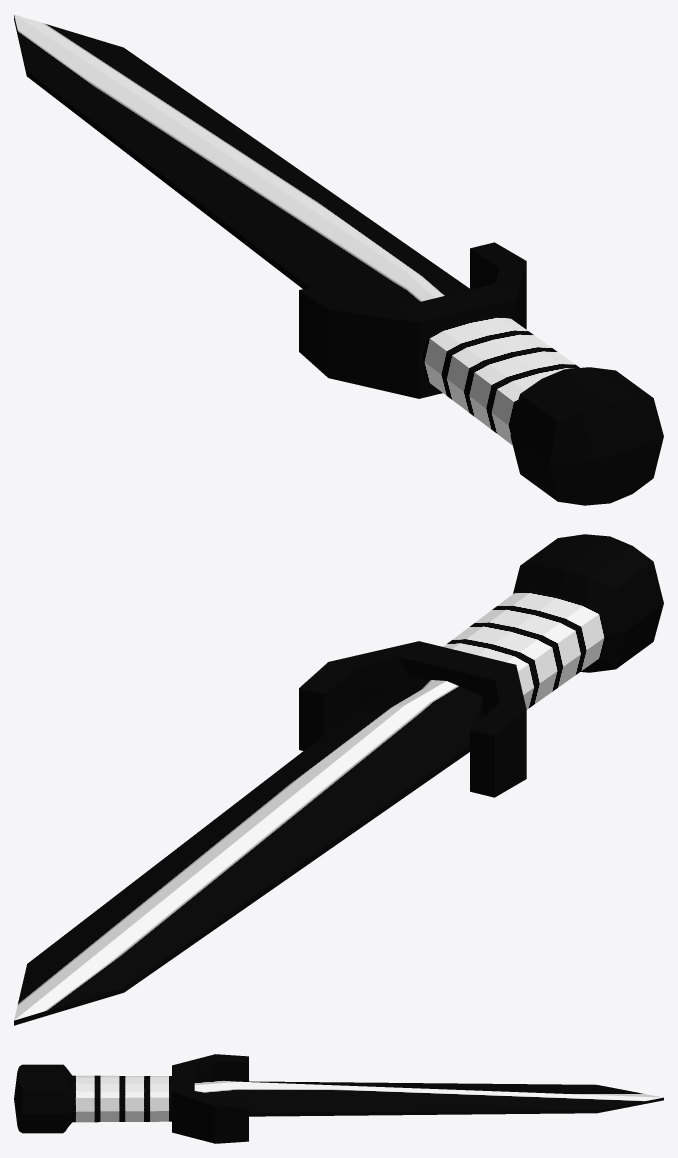
Rendered from UnchargedSword.fbx.
The picture shows the model from 3 angles, top to bottom: view 1: azimuth 30°, elevation 25°; view 2: azimuth 150°, elevation 25°; view 3: azimuth 270°, elevation 25°; orthographic projection. The views are drawn at different scales.
Visible parts, largest first — view 1: Cube; view 2: Cube; view 3: Cube.
Part boxes in pixels (bbox=[...]): Cube: bbox=[14, 14, 663, 505]; Cube: bbox=[14, 534, 663, 1025]; Cube: bbox=[14, 1054, 663, 1143].
Bounding box in the file's own units: 186 × 90 × 975.
